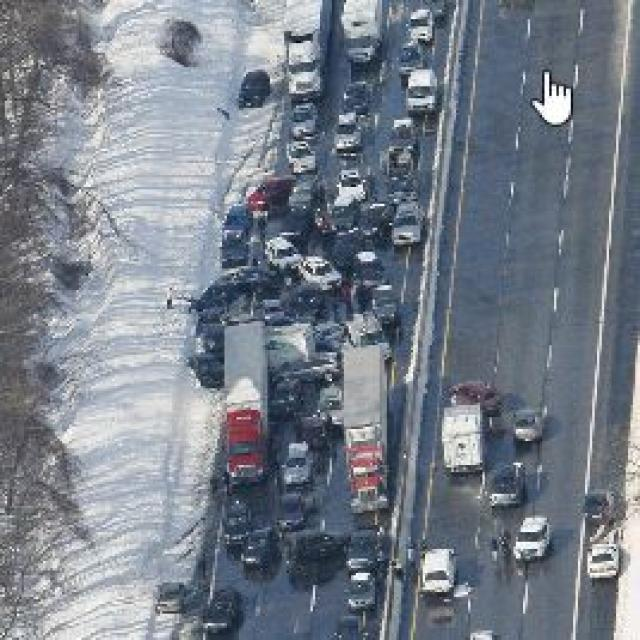traffic_incident: (157, 206, 410, 587)
